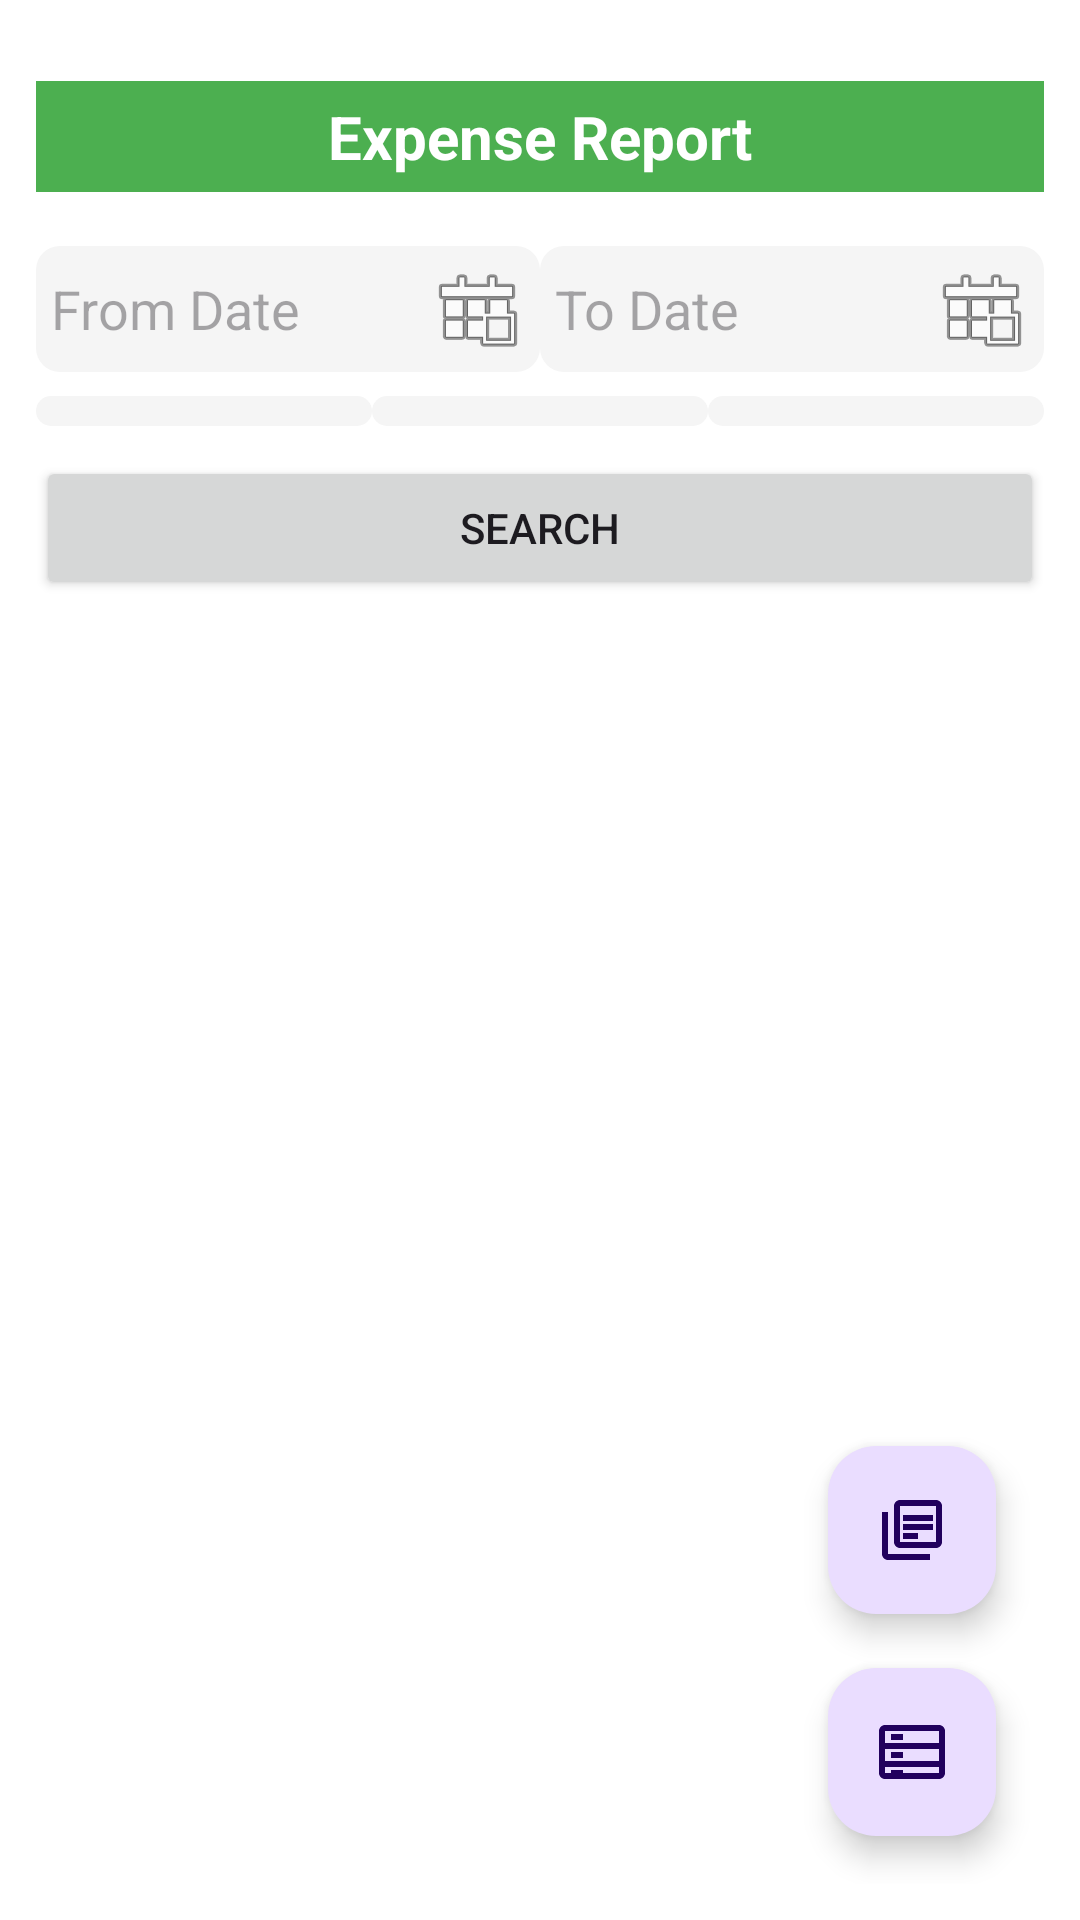

Screen size 1080 × 1920. Icon name, then its box in pixels as (x1, y1, x2, y2):
Download Excel: (828, 1668, 996, 1836)
Download PDF: (828, 1446, 996, 1614)
